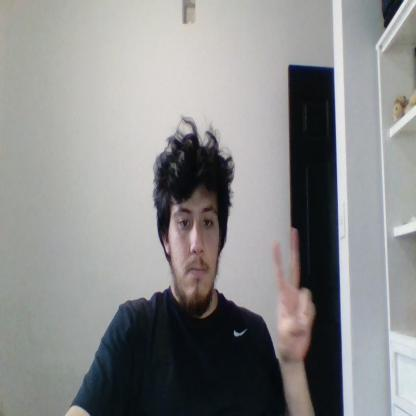V: (273, 228, 315, 361)
